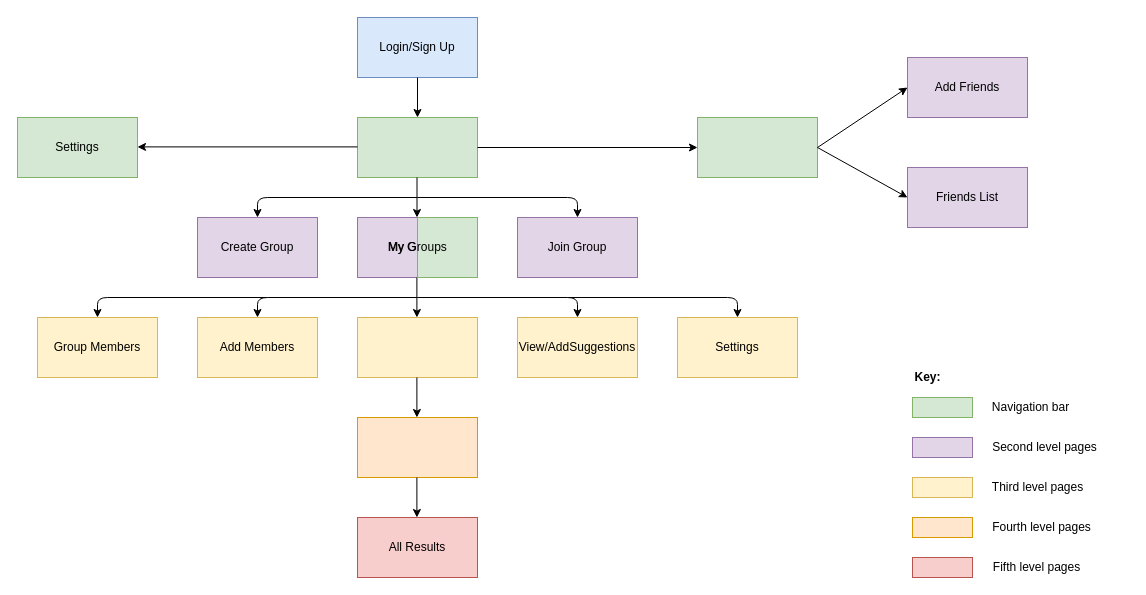
Some shapes in this 1146 by 595 pixel diagram are drawn without their labels. Each missing label, with the centre of its shape:
"Final Result" belongs at point (417, 447).
"Friends" belongs at point (757, 147).
"Home" belongs at point (417, 147).
"Start Choosing" belongs at point (417, 347).
